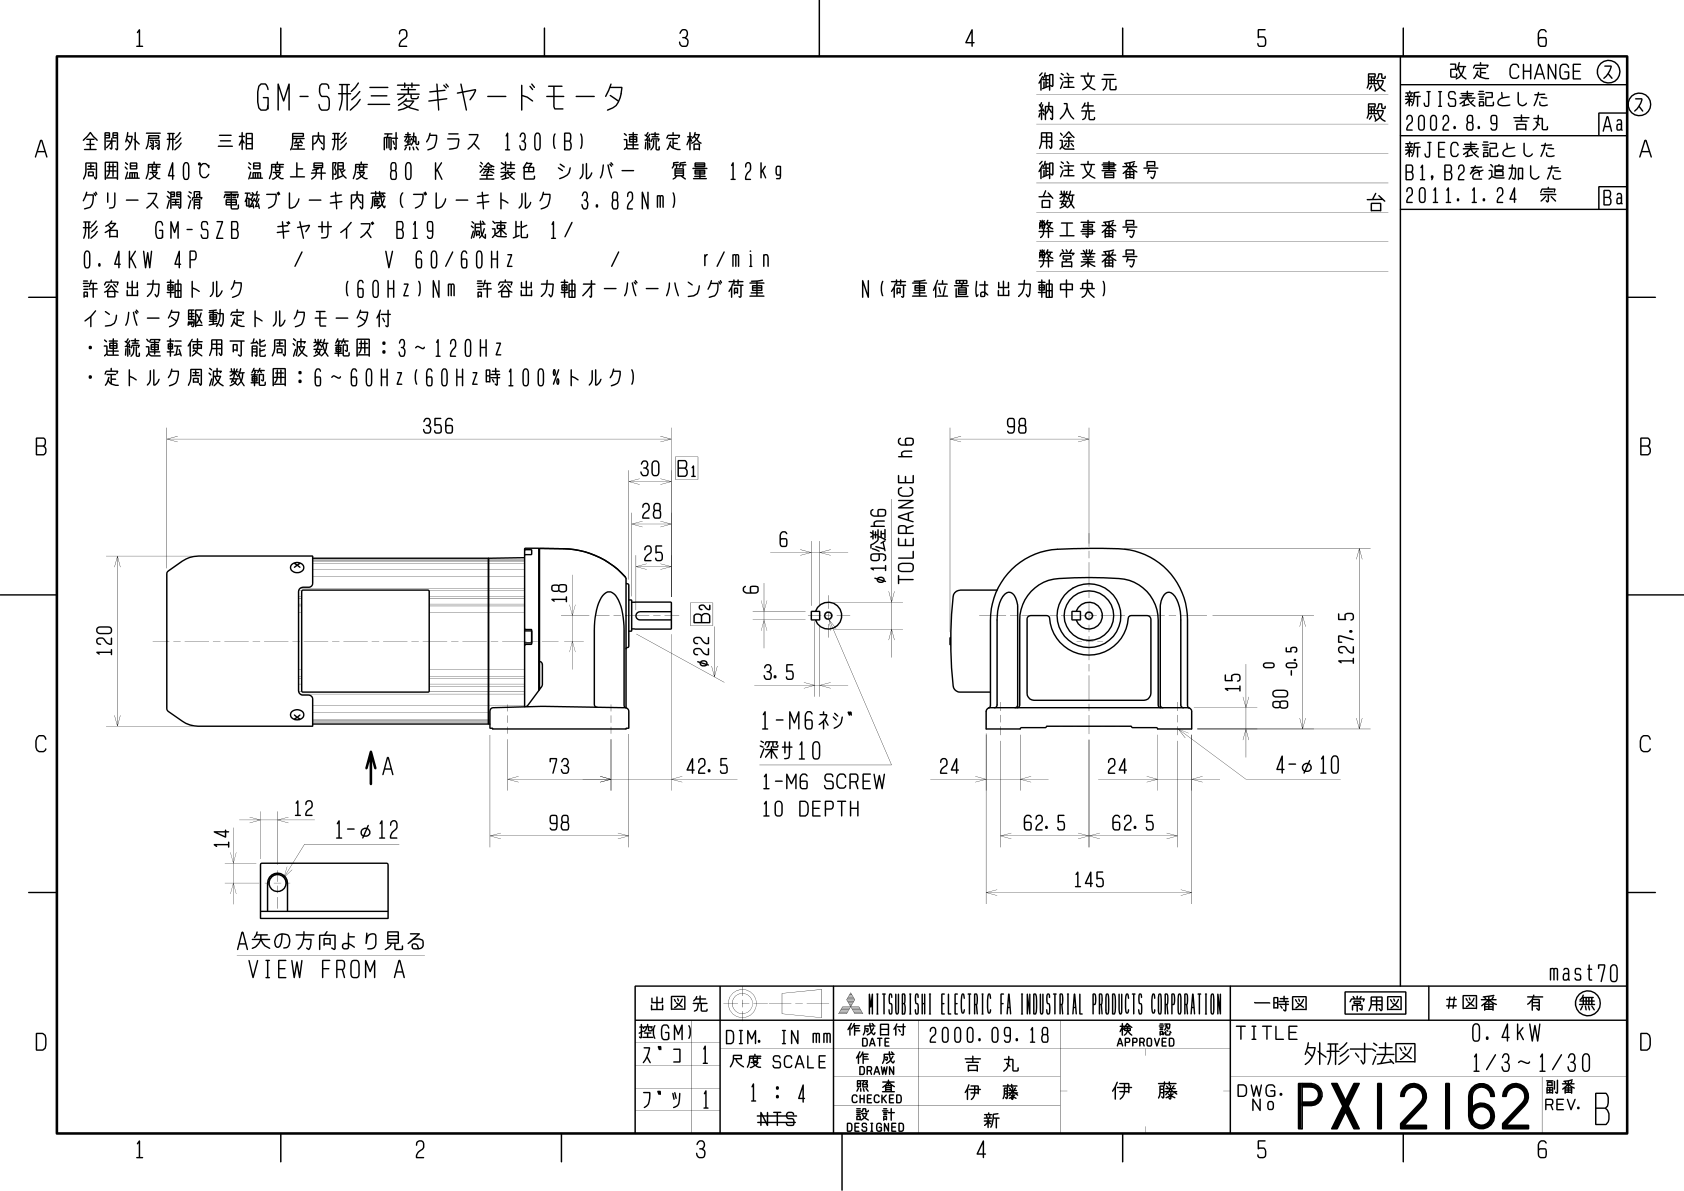GM_S_インバタ屋内＿三相_脚: (17, 13, 1684, 1191)
